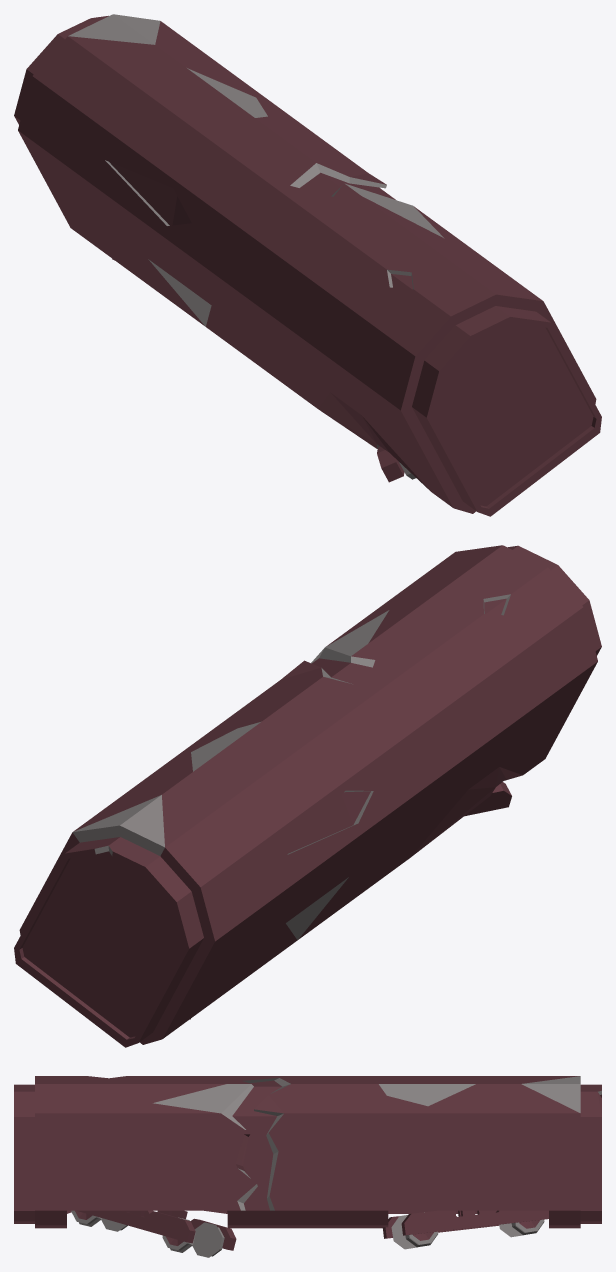
Rendered from train-speed-wagon-apocalypse-b.fbx.
3 views of the same model, one above another, from view 1: azimuth 30°, elevation 25°; view 2: azimuth 150°, elevation 25°; view 3: azimuth 270°, elevation 25° (orthographic). The views are drawn at different scales.
Parts seen in each view (by area): view 1: train-speed-wagon-apocalypse-b; view 2: train-speed-wagon-apocalypse-b; view 3: train-speed-wagon-apocalypse-b.
Boxes of the visible parts, x1,y1,x2,y2 form: train-speed-wagon-apocalypse-b: (14,14,601,516); train-speed-wagon-apocalypse-b: (14,545,601,1047); train-speed-wagon-apocalypse-b: (14,1076,601,1257).
Size of the model in its own units: 4.4 by 4.03 by 13.89.
